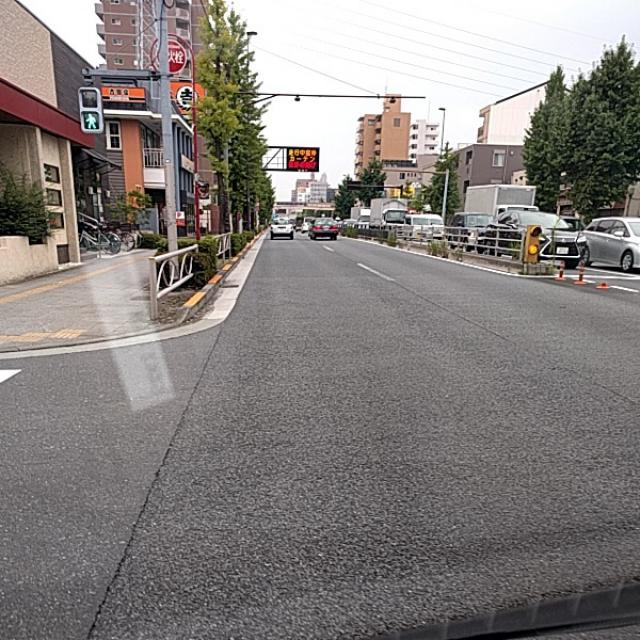pothole: (88, 420, 156, 506)
